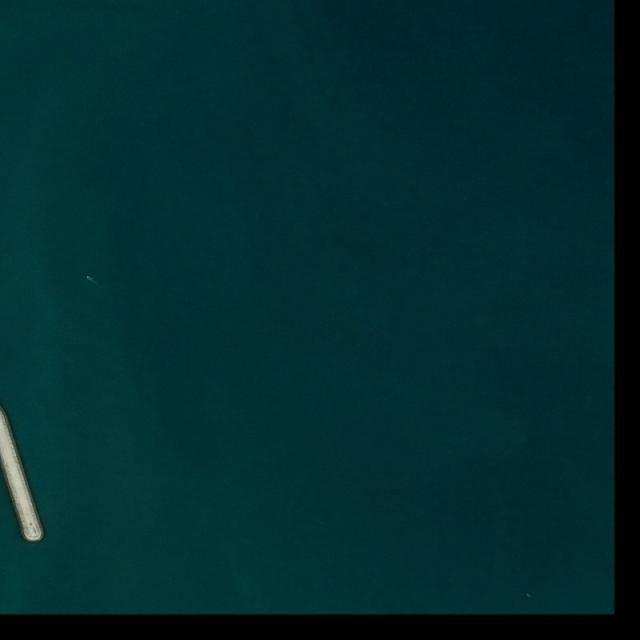ship: (86, 275, 94, 282)
